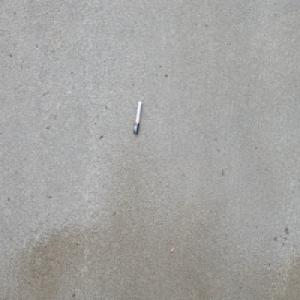Battery: (132, 99, 142, 135)
